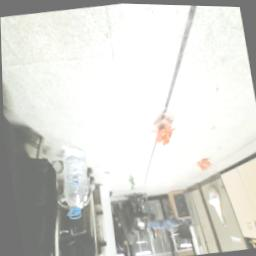herb: (126, 172, 137, 191)
wild: (152, 123, 179, 149), (197, 156, 215, 172)
